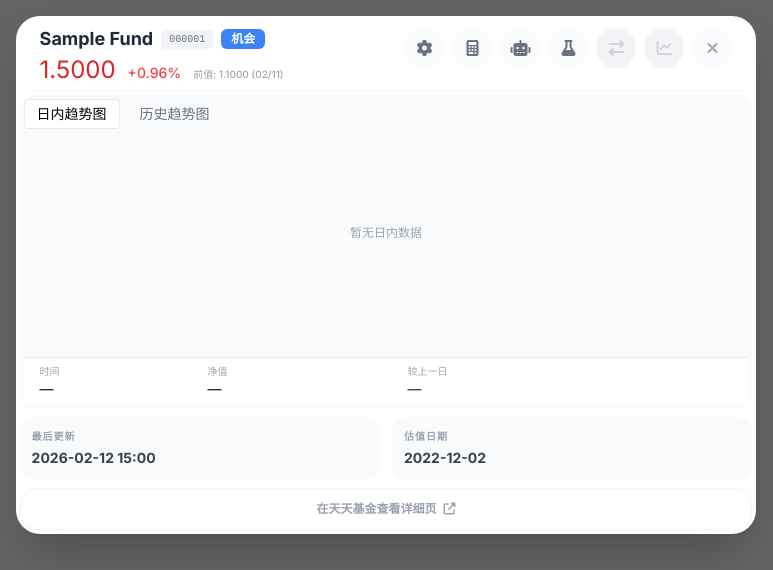
Test: FundDetailsModal SMA behavior › rating tooltip shows golden cross when present in history
The image size is (773, 570).
Click the button "历史趋势图" at (175, 114), box [128,100,222,128]
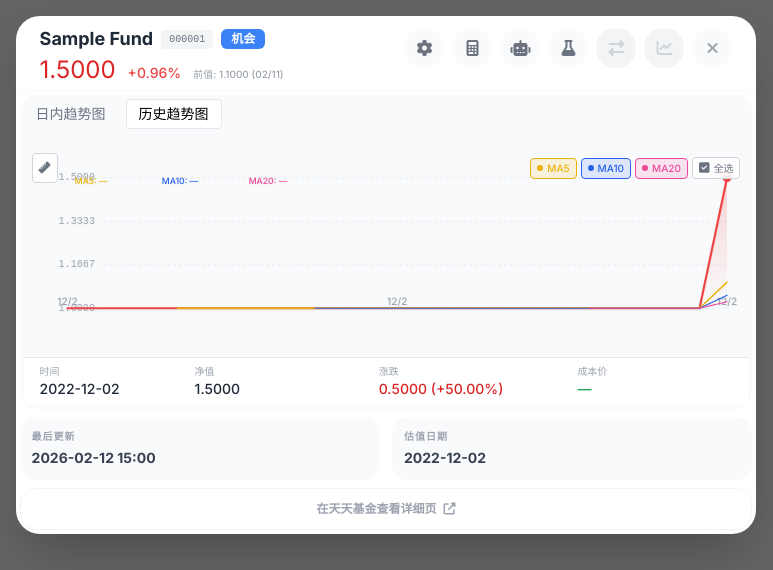
Hover over the button with aria-label "风险评级" at (243, 39), box [221,29,265,49]
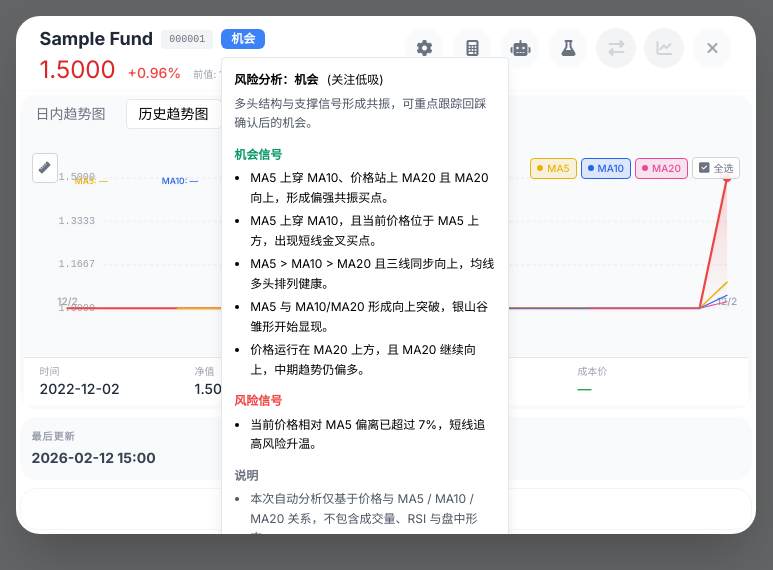
Check: the tooltip shows "金叉", box [221,57,509,534]
